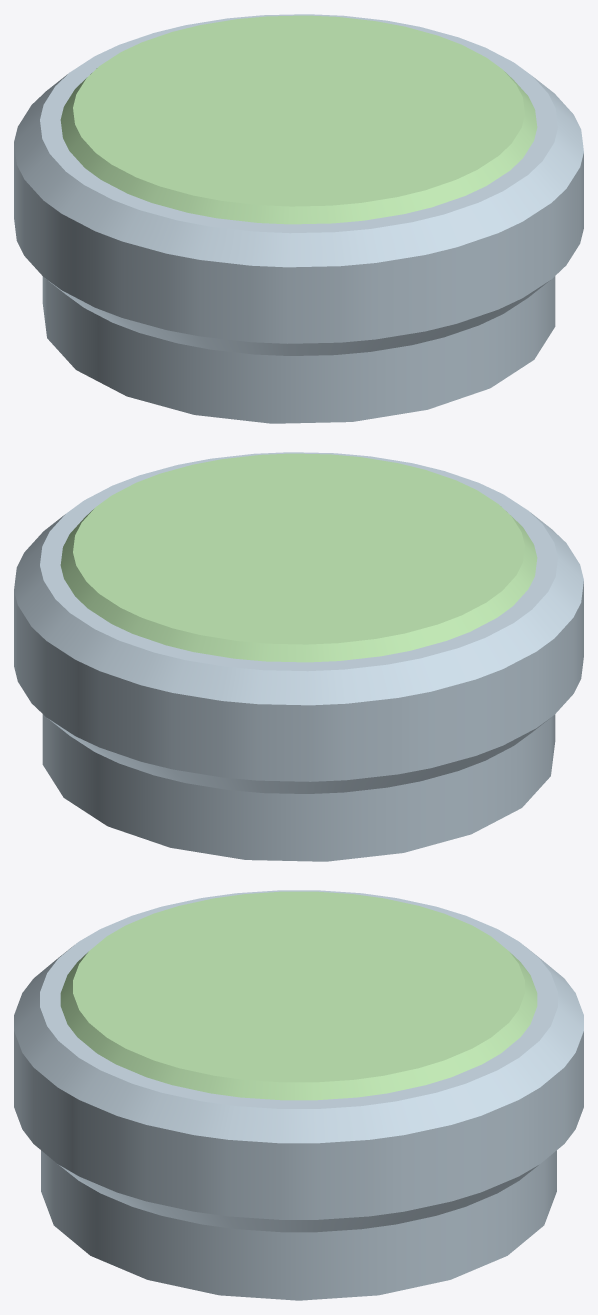
File: ButtonOn.fbx
3 views of the same model, one above another, from view 1: azimuth 30°, elevation 25°; view 2: azimuth 150°, elevation 25°; view 3: azimuth 270°, elevation 25° (orthographic).
Visible parts, largest first — view 1: pCylinder4, pCylinder5, pCylinder3; view 2: pCylinder4, pCylinder5, pCylinder3; view 3: pCylinder4, pCylinder5, pCylinder3.
Boxes of the visible parts, left/top/right/bottom form: pCylinder4: left=14, top=14, right=583, bottom=355; pCylinder5: left=60, top=15, right=537, bottom=224; pCylinder3: left=42, top=276, right=555, bottom=423; pCylinder4: left=14, top=452, right=583, bottom=793; pCylinder5: left=60, top=453, right=537, bottom=662; pCylinder3: left=42, top=714, right=555, bottom=861; pCylinder4: left=14, top=890, right=583, bottom=1232; pCylinder5: left=60, top=891, right=537, bottom=1100; pCylinder3: left=41, top=1150, right=556, bottom=1300.
Size of the model in its own units: 4.27 by 1.69 by 4.27.
